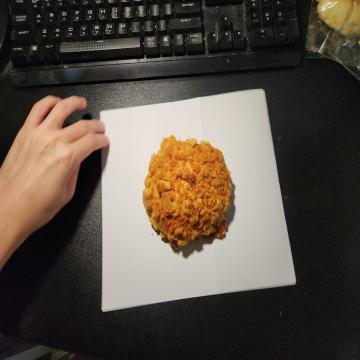soboru_bread: (142, 136, 234, 252)
